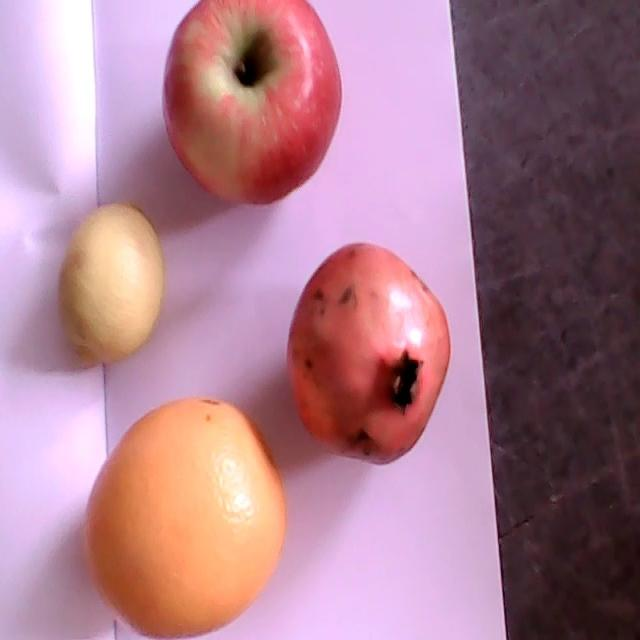apple: (161, 0, 343, 205)
lemon: (57, 203, 163, 364)
orange: (80, 395, 287, 638)
pomegranate: (285, 242, 452, 467)
